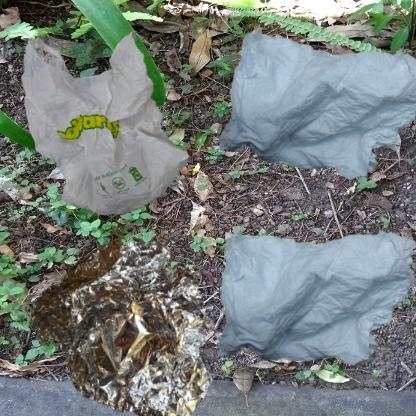aluminio: (10, 213, 249, 416)
bolsa: (10, 10, 209, 243)
papel: (213, 10, 416, 213), (213, 213, 416, 381)
